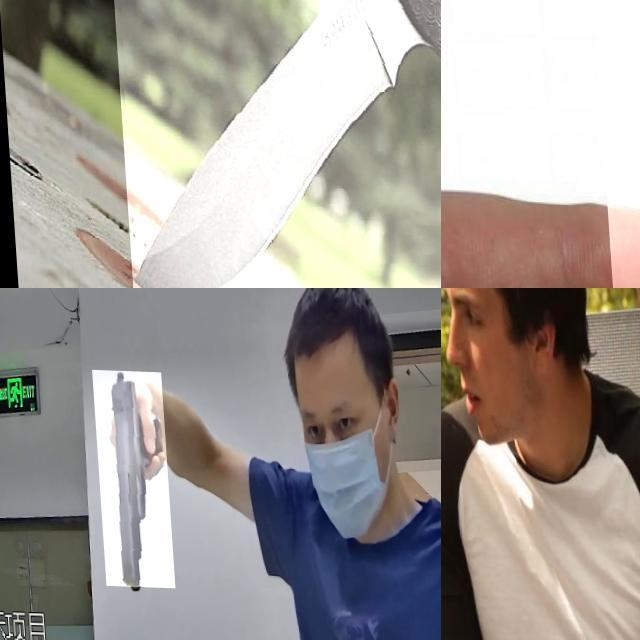-: (103, 0, 441, 288), (588, 0, 640, 288)
gun-knife-thesis - v11 Yolov5 augmented: (88, 368, 168, 586)
